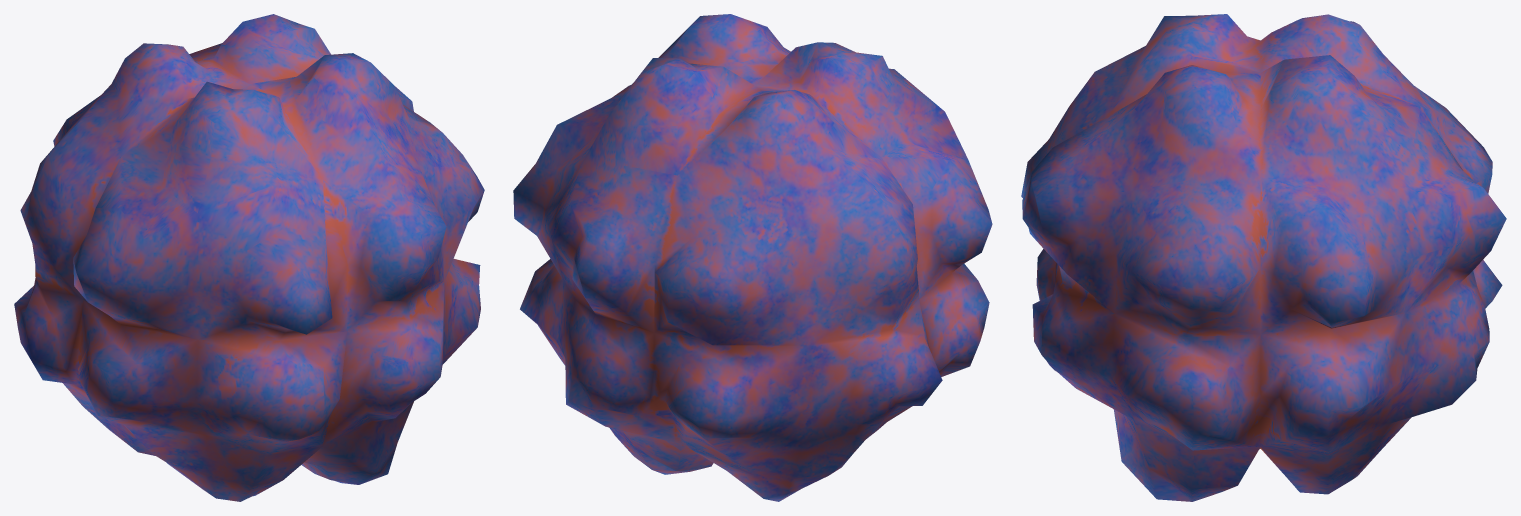
3 renders of one model, left to right at view 1: azimuth 30°, elevation 25°; view 2: azimuth 150°, elevation 25°; view 3: azimuth 270°, elevation 25°, orthographic. The views are drawn at different scales.
Parts seen in each view (by area): view 1: Cube.002; view 2: Cube.002; view 3: Cube.002.
Part boxes in pixels (<box>): Cube.002: <box>14,14,484,501</box>; Cube.002: <box>513,14,992,501</box>; Cube.002: <box>1021,14,1506,501</box>.
Bounding box in the file's own units: 360 × 359 × 366.
Materials: 1 (1 with a texture image).
